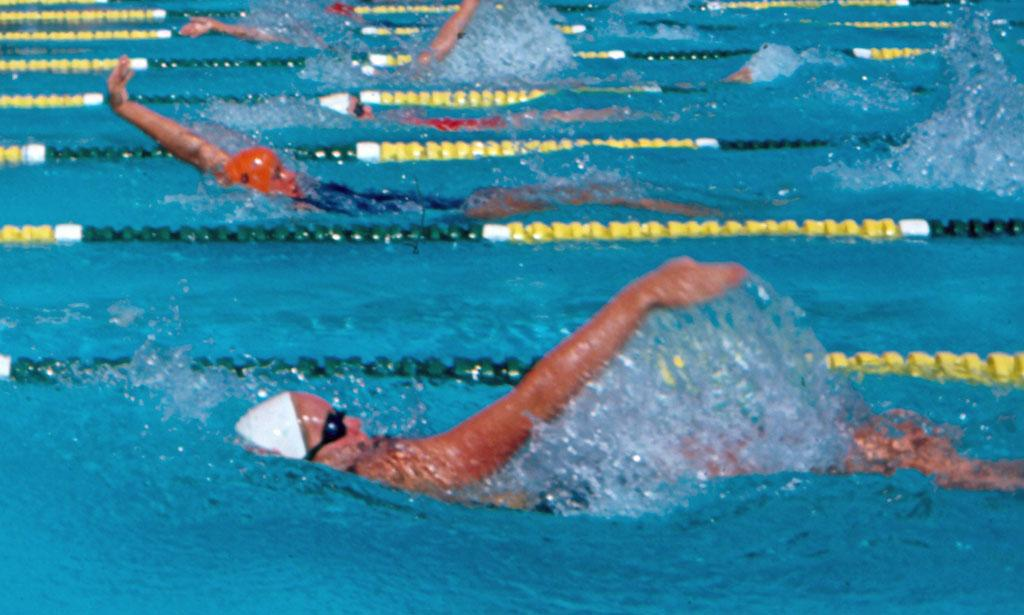face: (287, 395, 373, 465)
